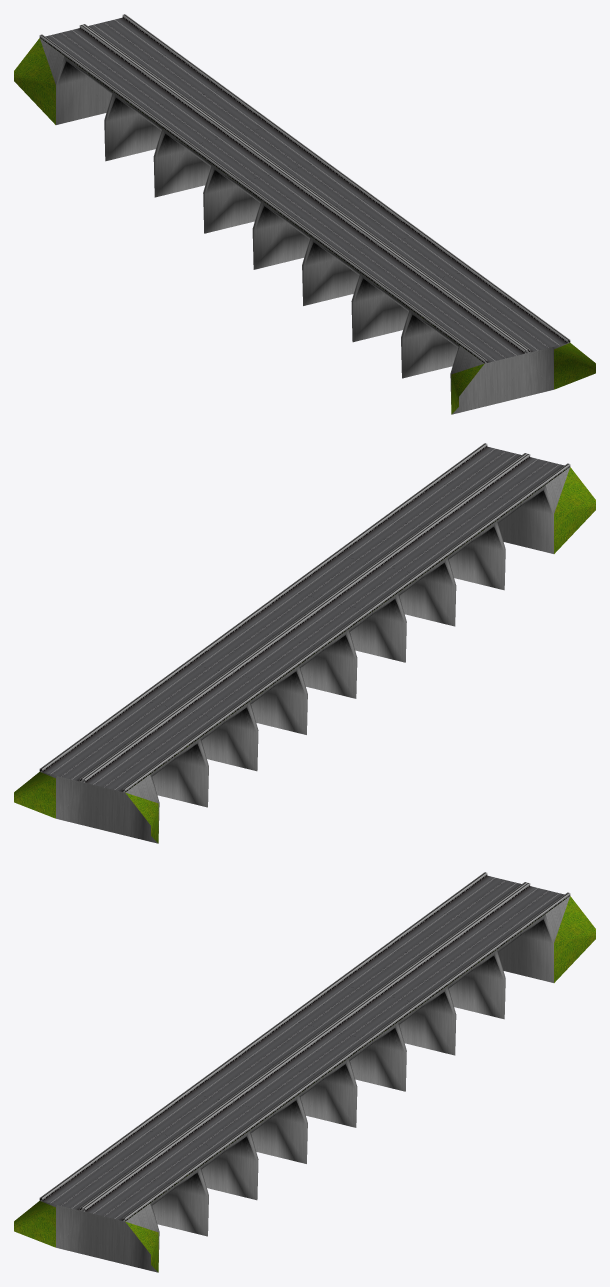
Rendered from brug_snelweg_1c2_met_talud.fbx.
3 views of the same model, one above another, from view 1: azimuth 30°, elevation 25°; view 2: azimuth 150°, elevation 25°; view 3: azimuth 330°, elevation 25° (orthographic).
Parts seen in each view (by area): view 1: brug_snelweg_1c2_met_talud; view 2: brug_snelweg_1c2_met_talud; view 3: brug_snelweg_1c2_met_talud.
Part boxes in pixels (box(x1,y1,x2,y2)): brug_snelweg_1c2_met_talud: box(14, 14, 595, 414); brug_snelweg_1c2_met_talud: box(14, 443, 595, 843); brug_snelweg_1c2_met_talud: box(14, 872, 595, 1272).
Bounding box in the file's own units: 3200 × 1563 × 18006.
